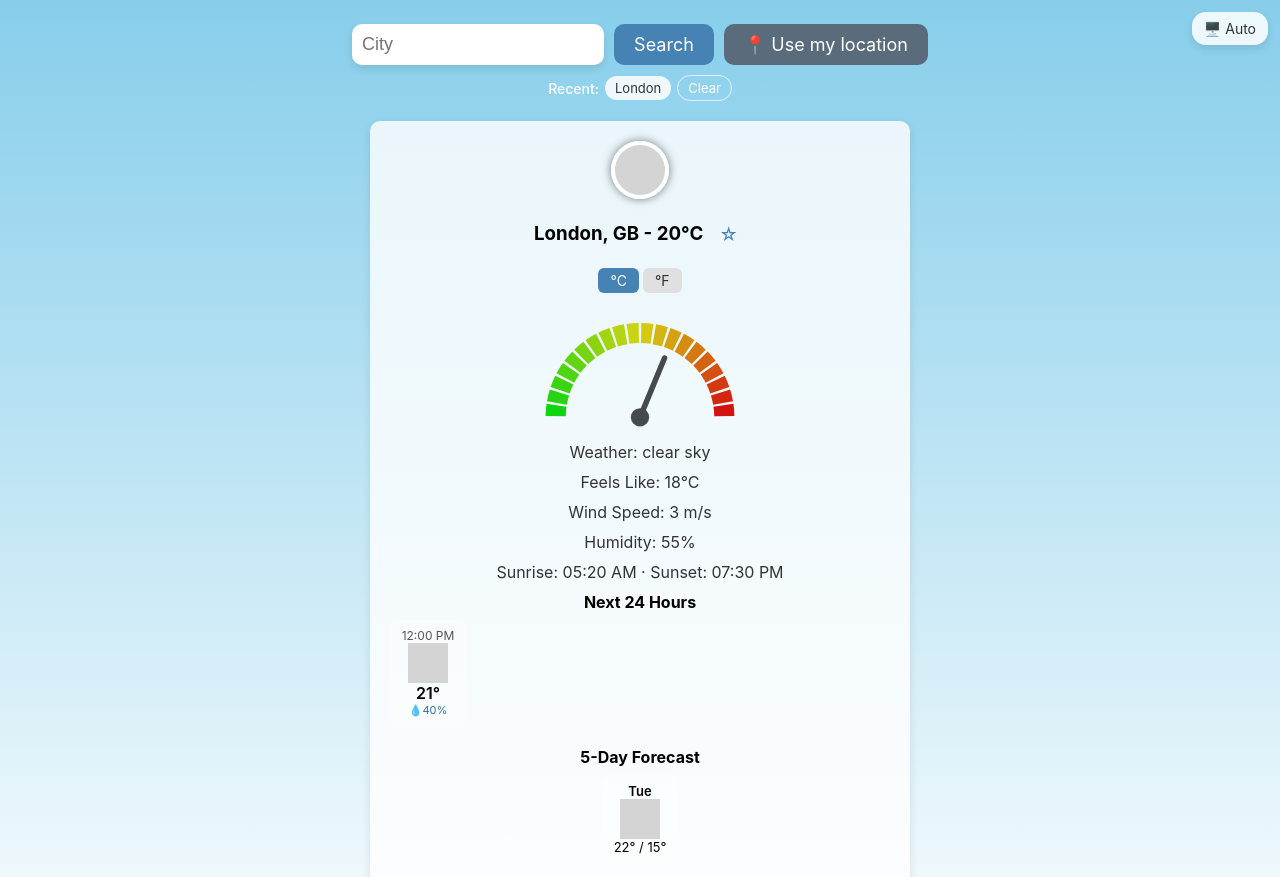
escape closes the suggestion list
Expected: the heading "London, GB - 20°C ☆" is shown, [534,222,746,245]
Type "Londo" into the dropdown at {"x": 478, "y": 44}, box [352,24,604,65]
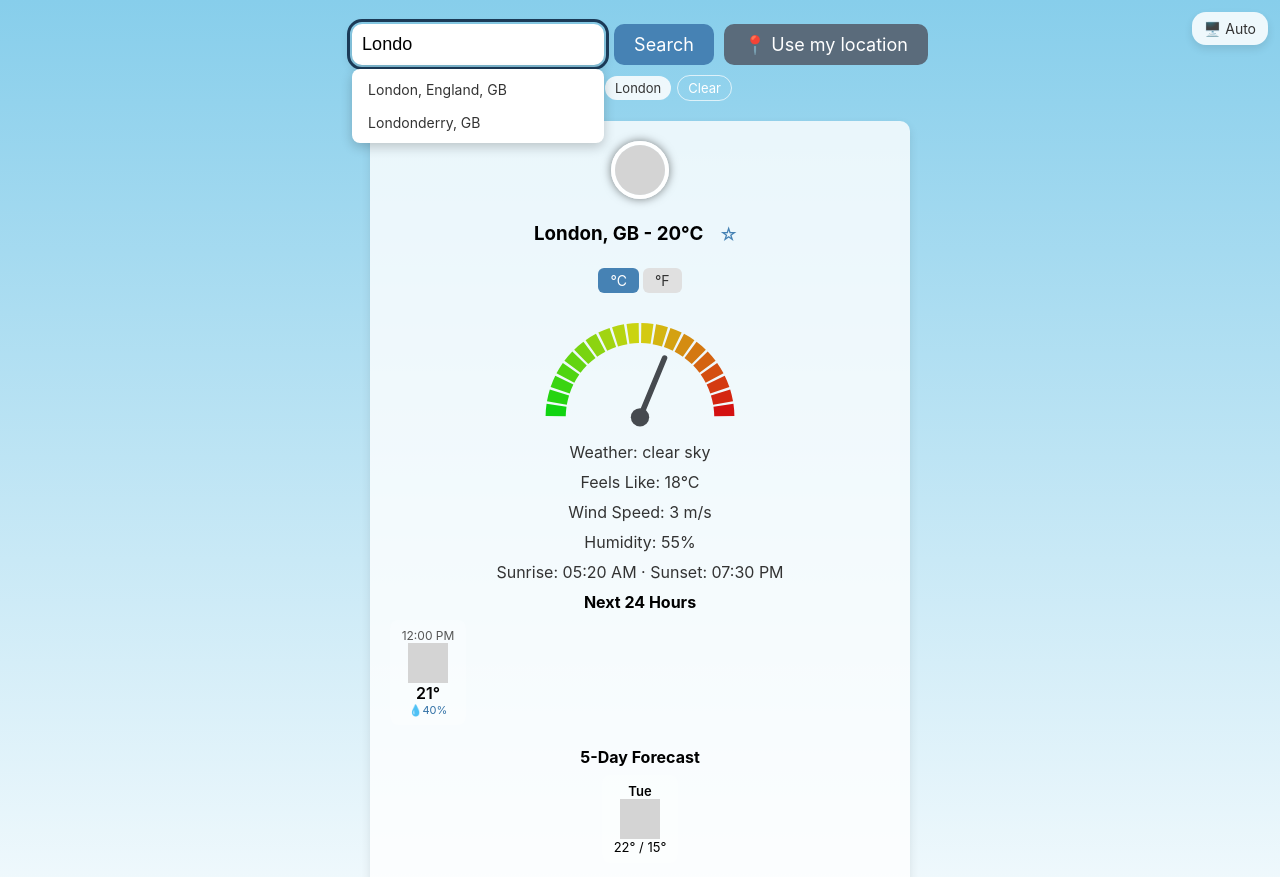
Result: the list is shown at [352,69,604,143]
Press Escape
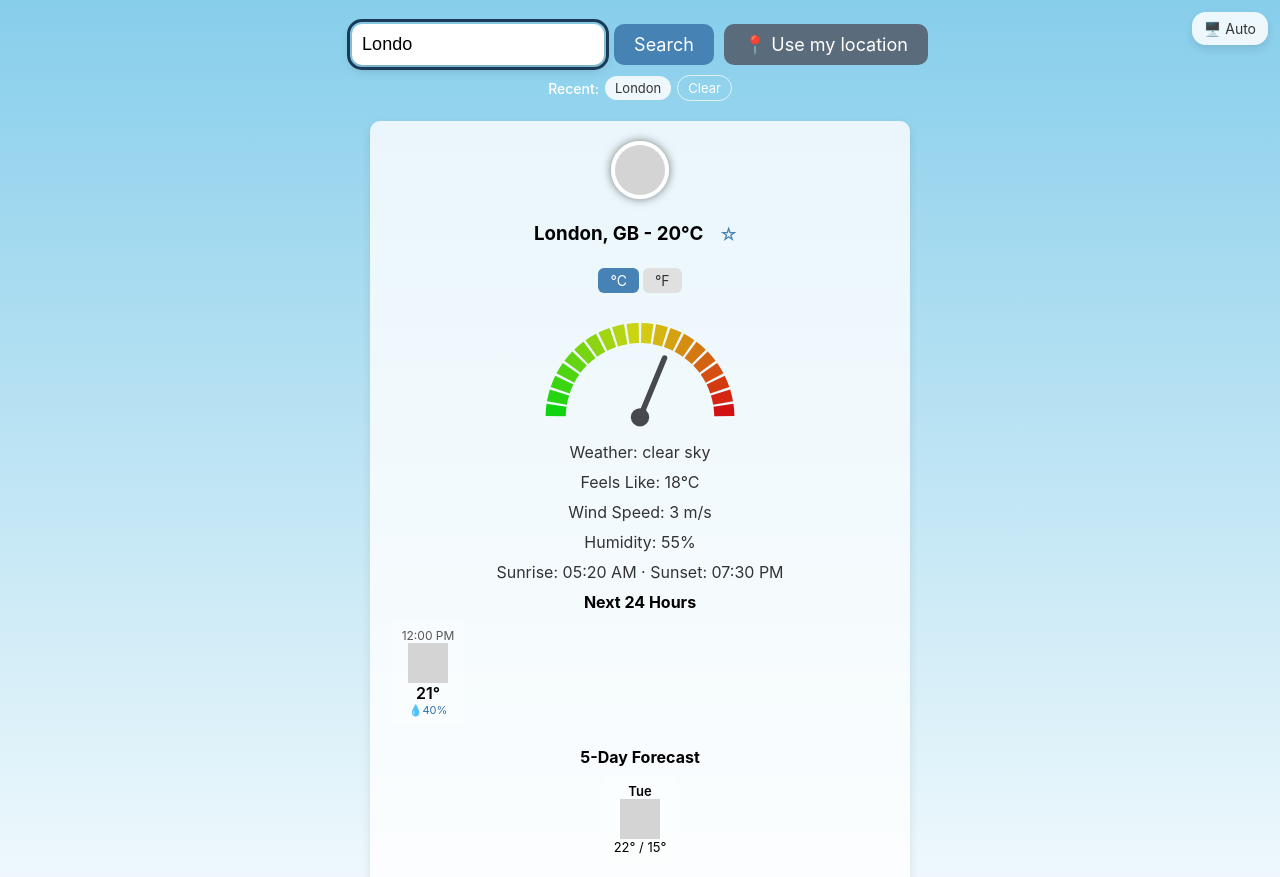
Result: the list is gone
